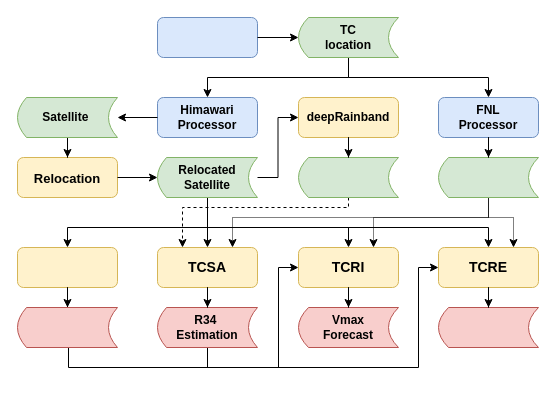
Image size: 556x393. Some labels were removed from this diagram. Here are the shapes that lost their labels. From the top down, the centre of each, then its label:
At pixel 207 37: "TC Location Processor".
At pixel 348 177: "fake PMW".
At pixel 488 177: "Env. variables".
At pixel 67 267: "DLTC".
At pixel 67 327: "Vmax Estimation".
At pixel 488 327: "R34 Forecast".
